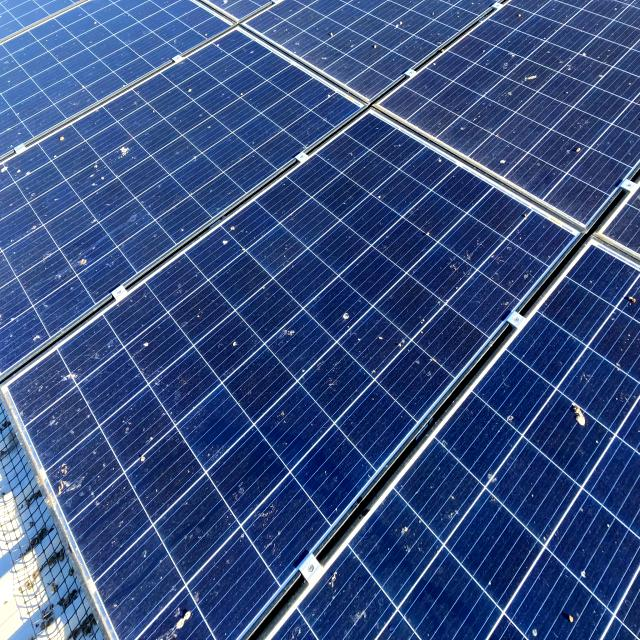dust: (455, 457, 640, 639), (51, 355, 228, 519), (327, 180, 530, 286), (46, 122, 158, 254), (310, 296, 450, 390)
